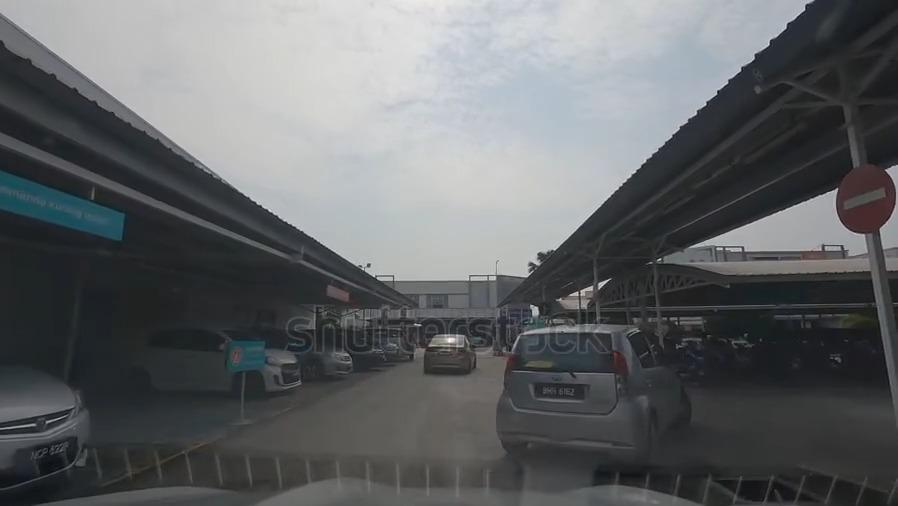car: (507, 328, 684, 459), (127, 327, 302, 399), (0, 351, 87, 478), (274, 328, 352, 380), (330, 328, 386, 372), (424, 335, 475, 373), (370, 334, 399, 361)
manhole: (707, 474, 822, 506)
person: (405, 331, 416, 357)
wheel: (123, 364, 149, 404), (232, 371, 264, 403), (647, 415, 664, 462), (297, 355, 320, 383), (678, 385, 694, 423)
